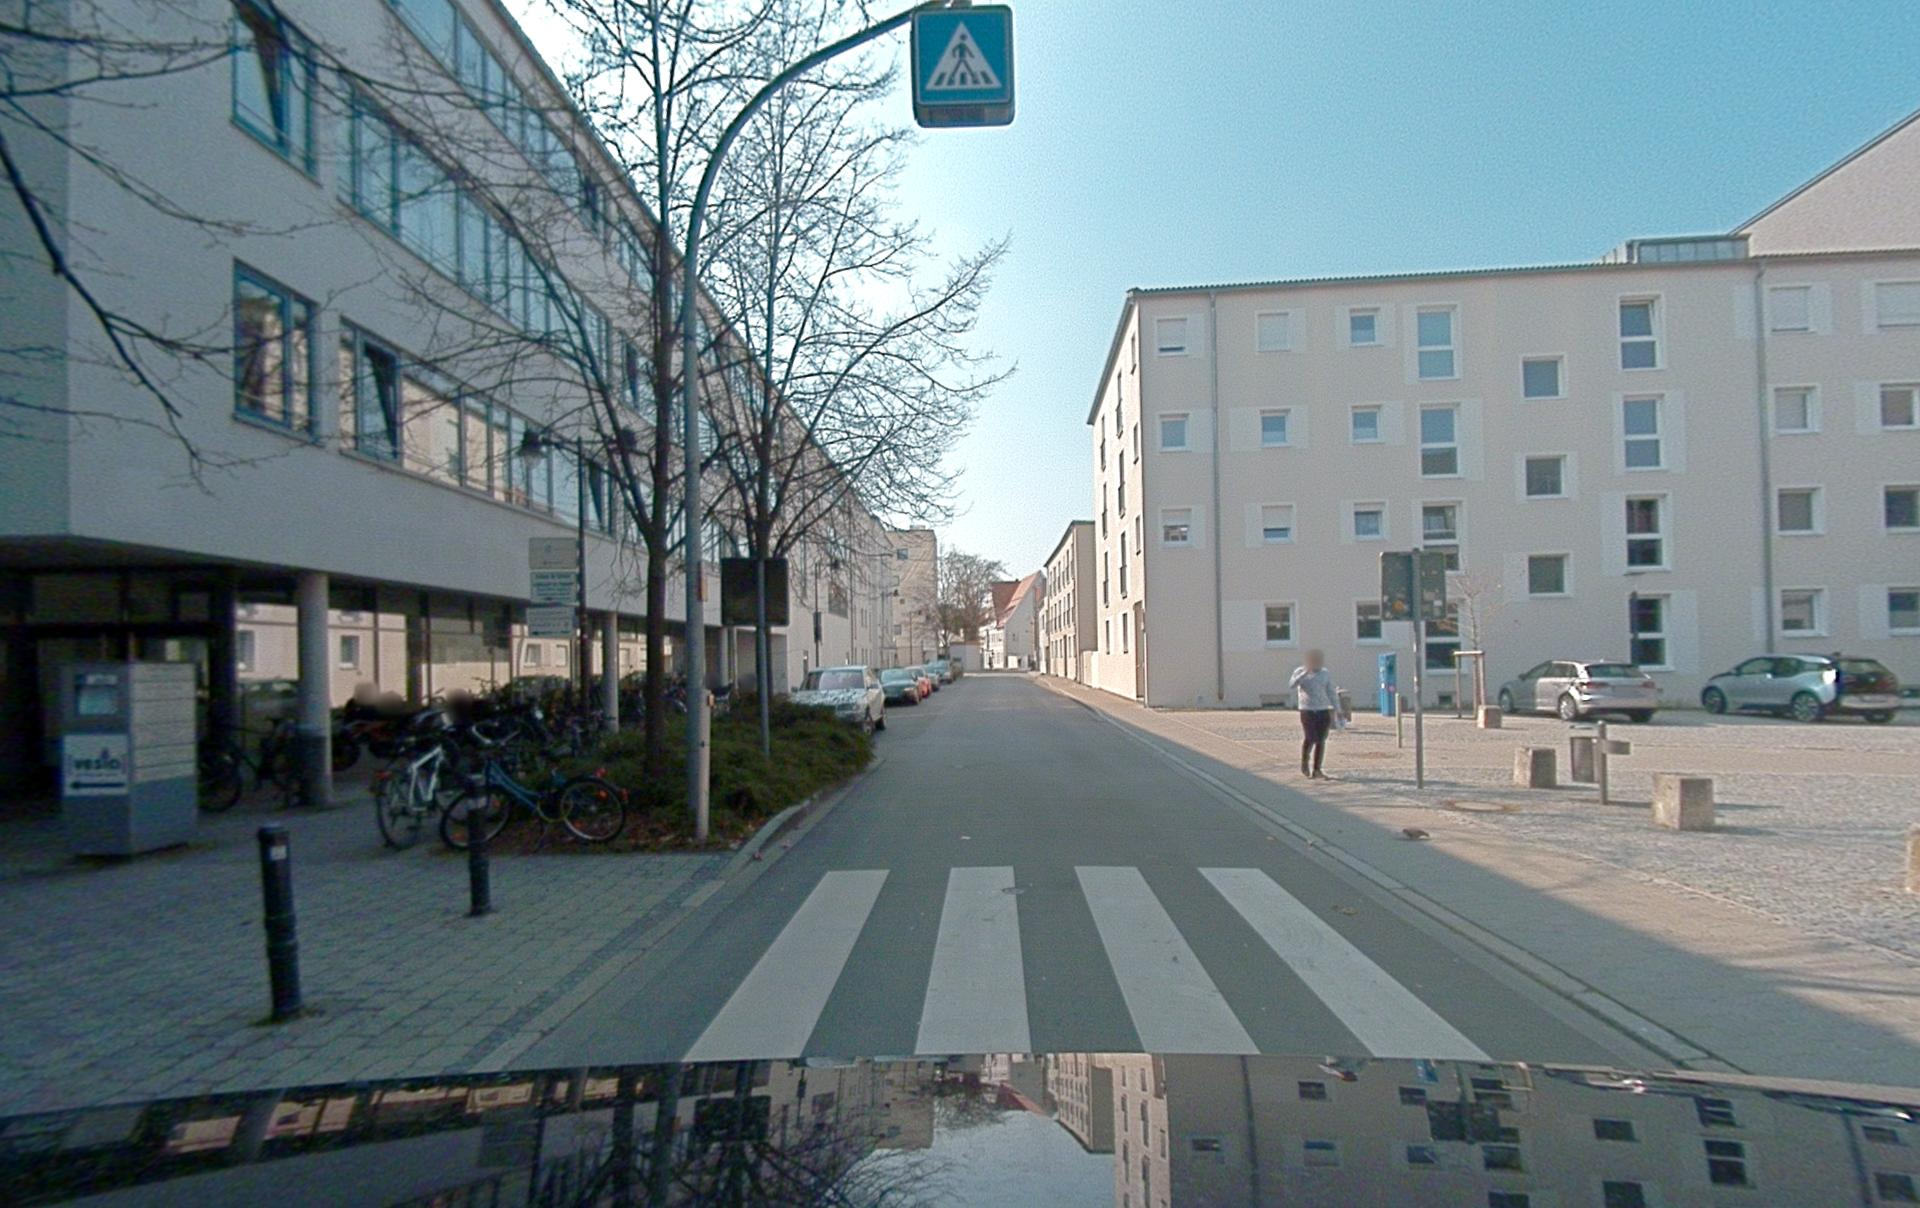car: (1498, 660, 1660, 722), (1702, 655, 1838, 720), (792, 665, 883, 733), (1830, 655, 1899, 724), (879, 668, 920, 703), (909, 667, 936, 697), (927, 660, 953, 683)
